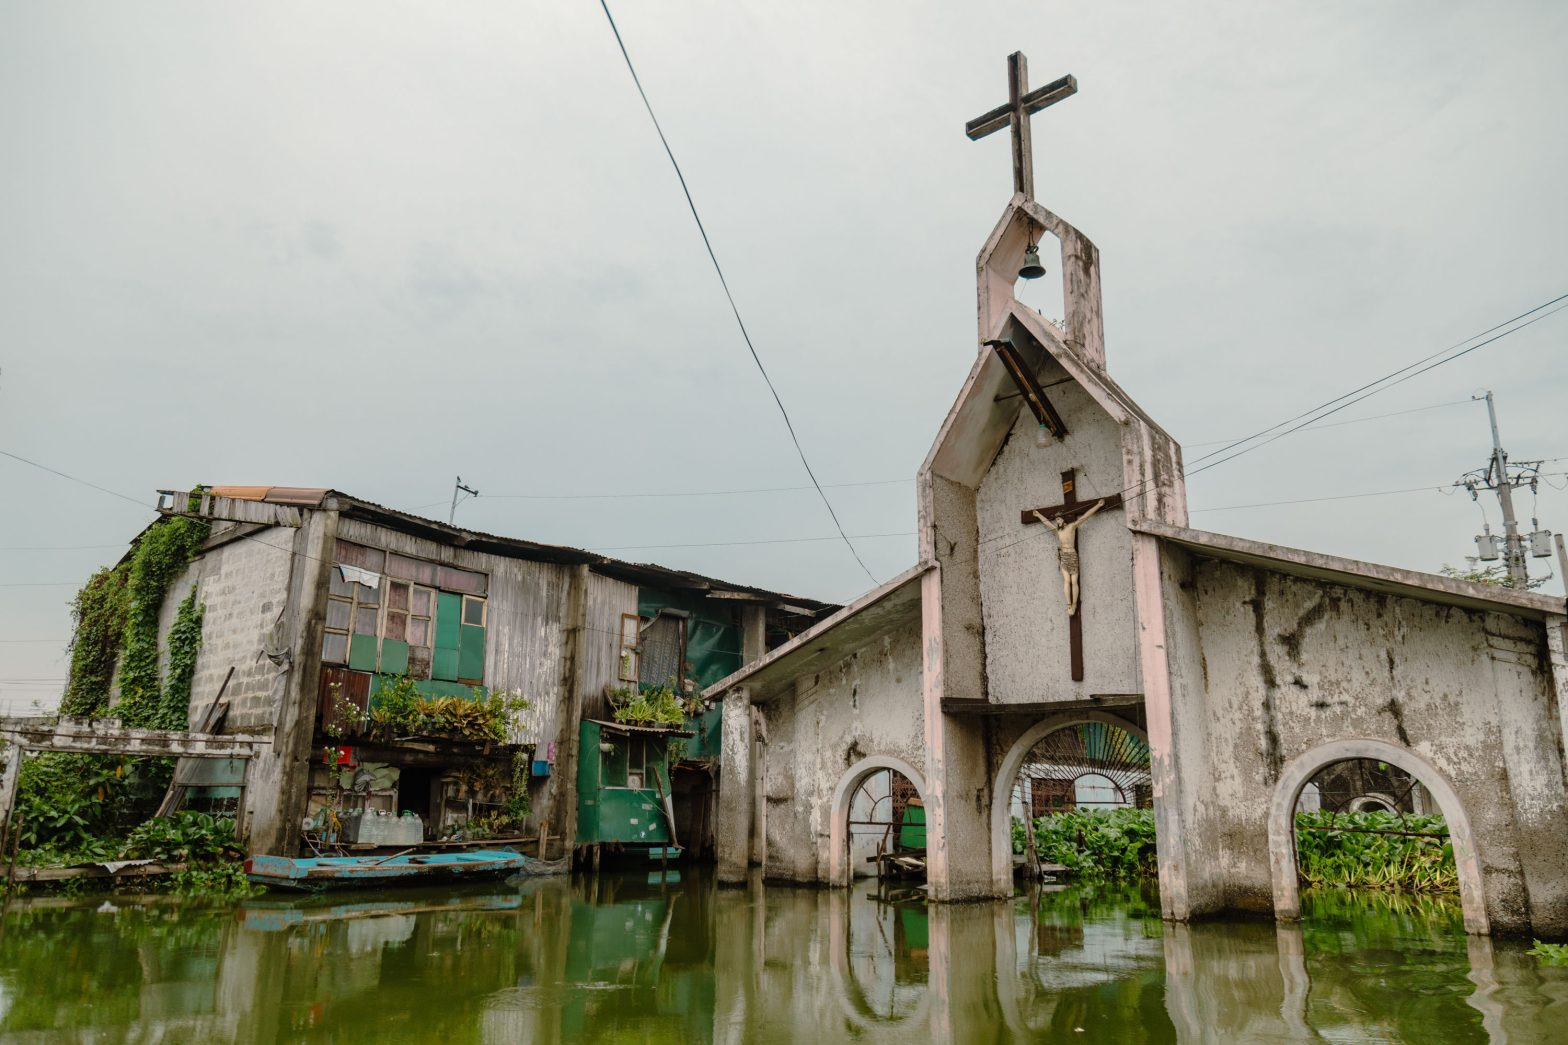crack: (267, 611, 305, 690)
